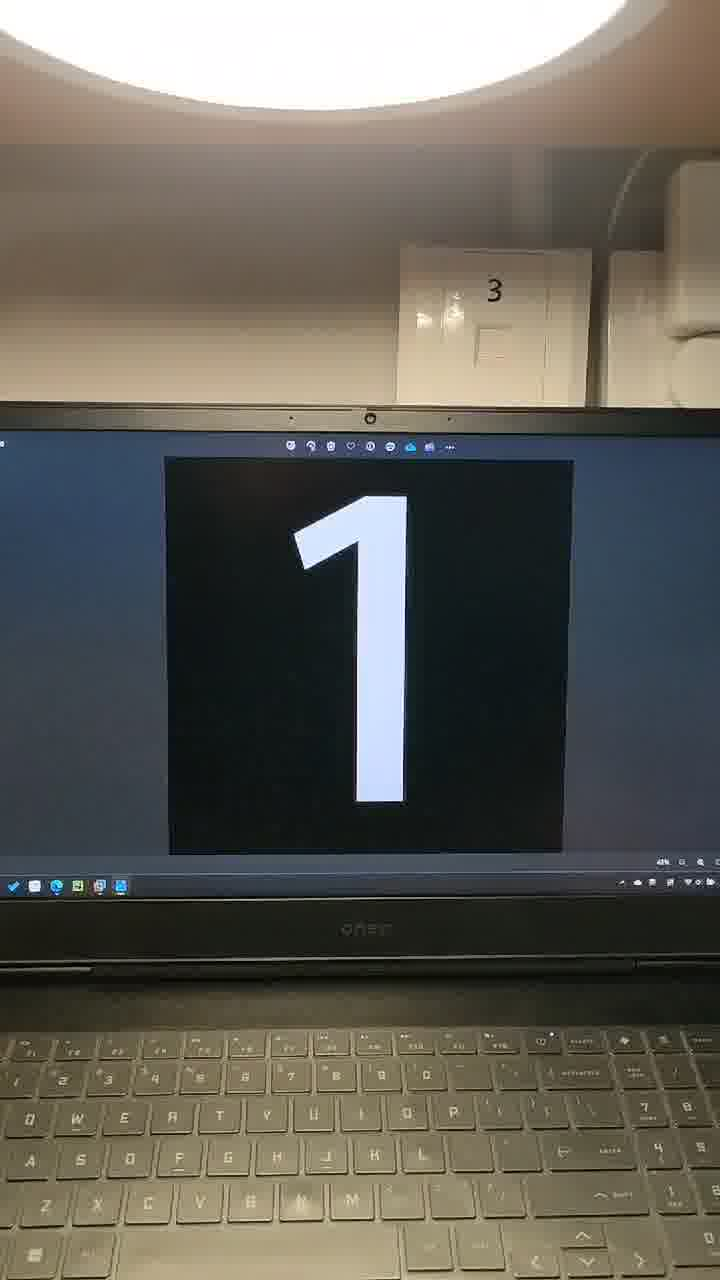one: (297, 500, 508, 889)
